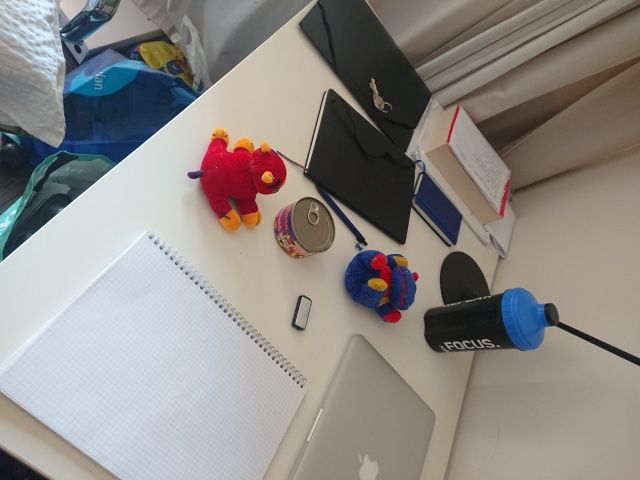Giana Tuna Salad Mexico 185g: (272, 194, 337, 262)
